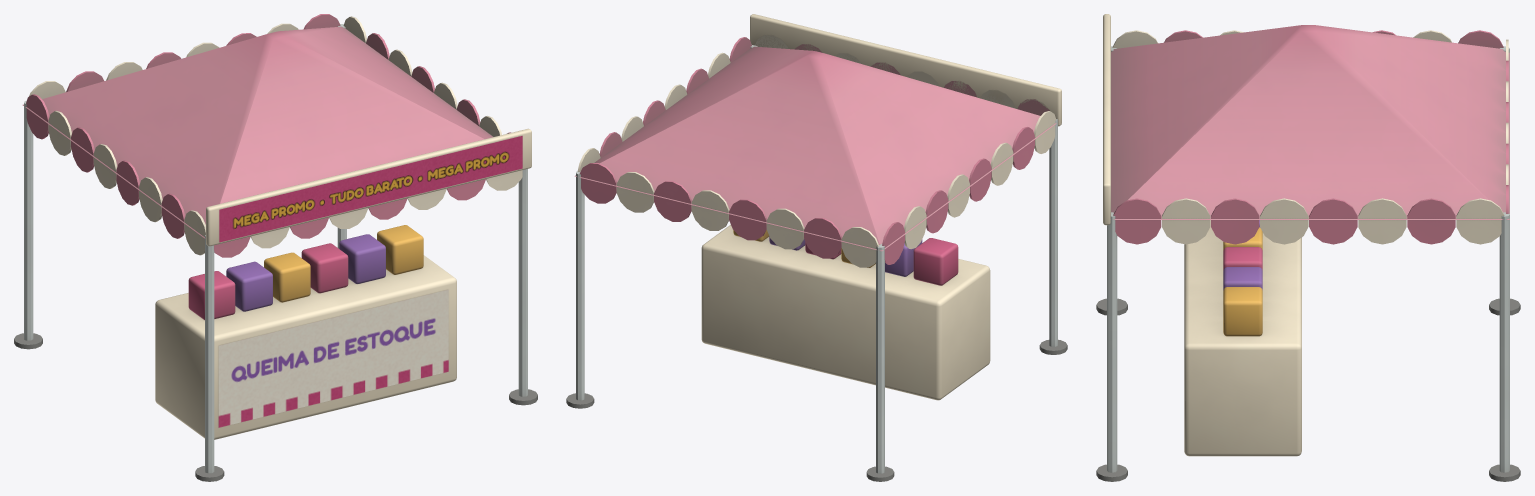
The model's file is RivalTent.fbx.
3 renders of one model, left to right at view 1: azimuth 30°, elevation 25°; view 2: azimuth 150°, elevation 25°; view 3: azimuth 270°, elevation 25°, orthographic. The views are drawn at different scales.
Visible parts, largest first — view 1: RivalTent; view 2: RivalTent; view 3: RivalTent.
Boxes of the visible parts, bbox=[...] form: RivalTent: bbox=[14, 14, 537, 481]; RivalTent: bbox=[566, 14, 1067, 481]; RivalTent: bbox=[1096, 14, 1520, 481].
Size of the model in its own units: 324 by 307 by 324.
